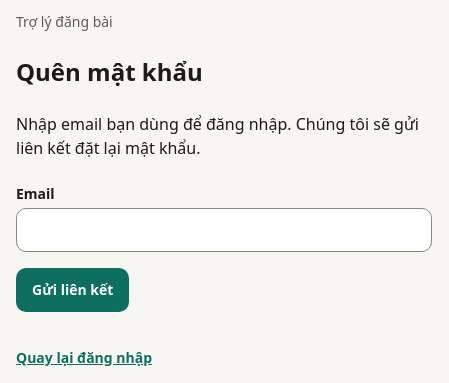
Test: ForgotPasswordPage › luôn cùng một thông điệp; không lỗi trợ năng
Expected: the heading "Quên mật khẩu" is shown, left=16, top=56, right=203, bottom=88
Type "khong-co@example.vn" into the field labelled "Email" at (224, 230), box left=16, top=208, right=432, bottom=252
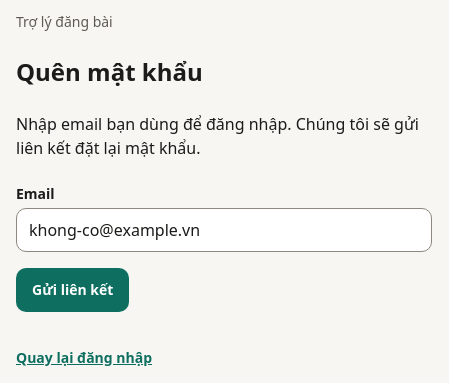
Click the button "Gửi liên kết" at (73, 290), box left=16, top=268, right=129, bottom=312
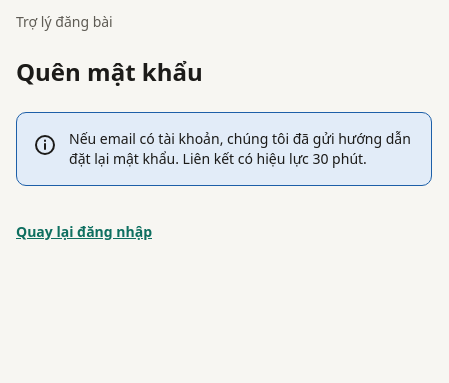
Expected: the text "Nếu email có tài khoản, chúng tôi đã gửi hướng dẫn" is shown, left=69, top=129, right=411, bottom=168
